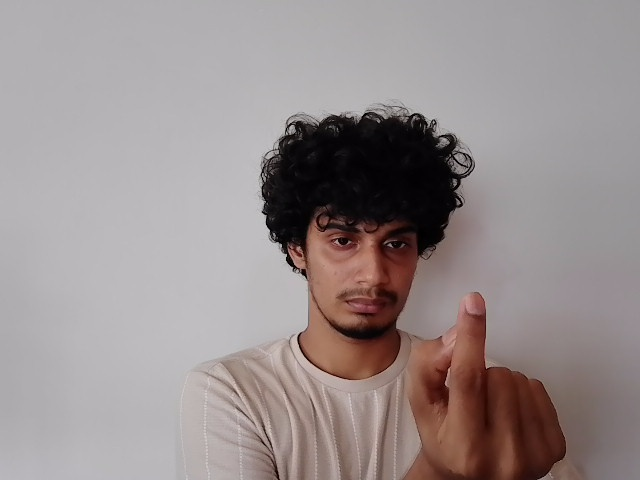just: (403, 292, 568, 479)
